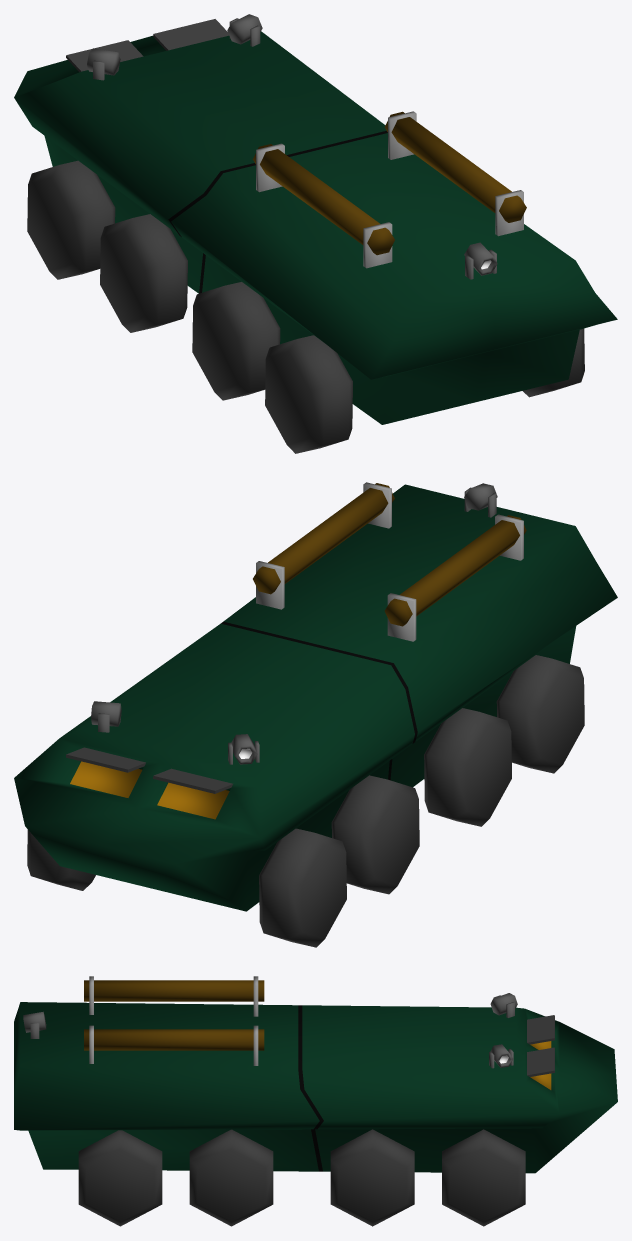
The model's file is Warsaw-BTR82A.obj.
3 views of the same model, one above another, from view 1: azimuth 30°, elevation 25°; view 2: azimuth 150°, elevation 25°; view 3: azimuth 270°, elevation 25° (orthographic). The views are drawn at different scales.
Visible parts, largest first — view 1: BTR82A_Cube.002; view 2: BTR82A_Cube.002; view 3: BTR82A_Cube.002.
Part boxes in pixels (x1,y1,x2,y2): BTR82A_Cube.002: (14, 14, 617, 453); BTR82A_Cube.002: (14, 482, 617, 947); BTR82A_Cube.002: (14, 976, 617, 1226).
Size of the model in its own units: 1.38 by 1.08 by 3.42.
